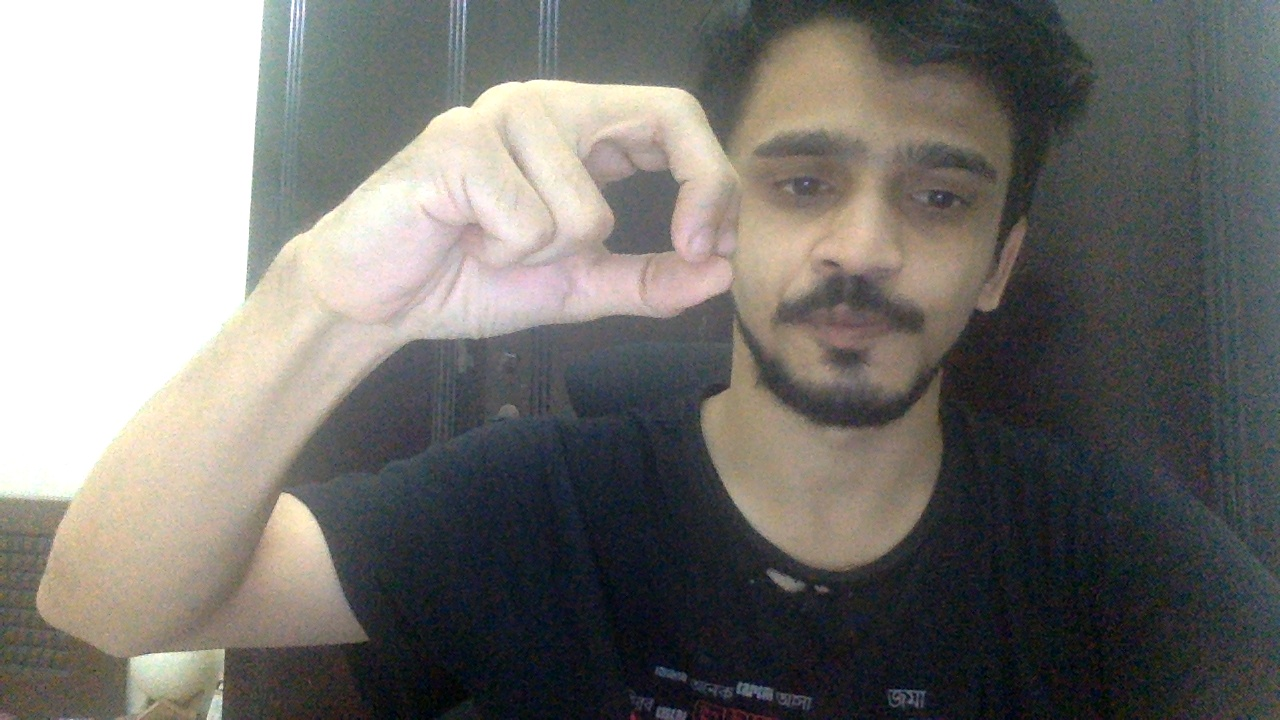zero: (298, 78, 741, 334)
